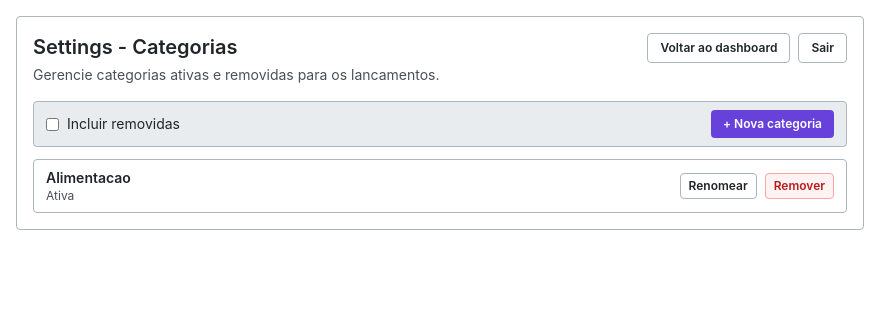
Scenario: CategoriesSettings › lista categorias ativas por padrao e permite incluir removidas
Expected: the text "Alimentacao" is shown, [46,168,131,188]
Click the checkbox labelled "Incluir removidas".
click(52, 124)  # box [46,118,59,130]
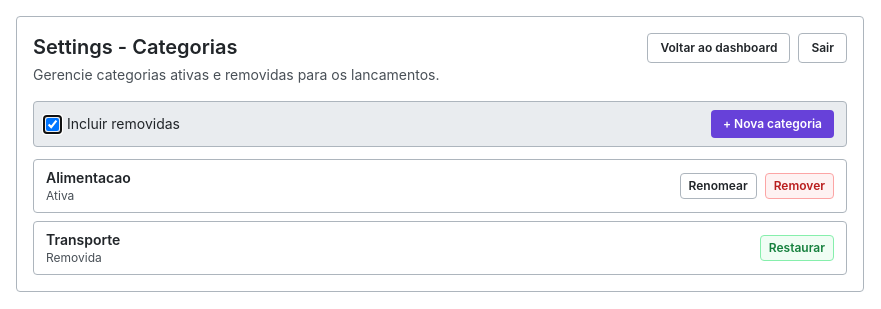
Expected: the text "Transporte" is shown, [46,230,120,250]
Expected: the text "Removida" is shown, [46,250,102,265]
